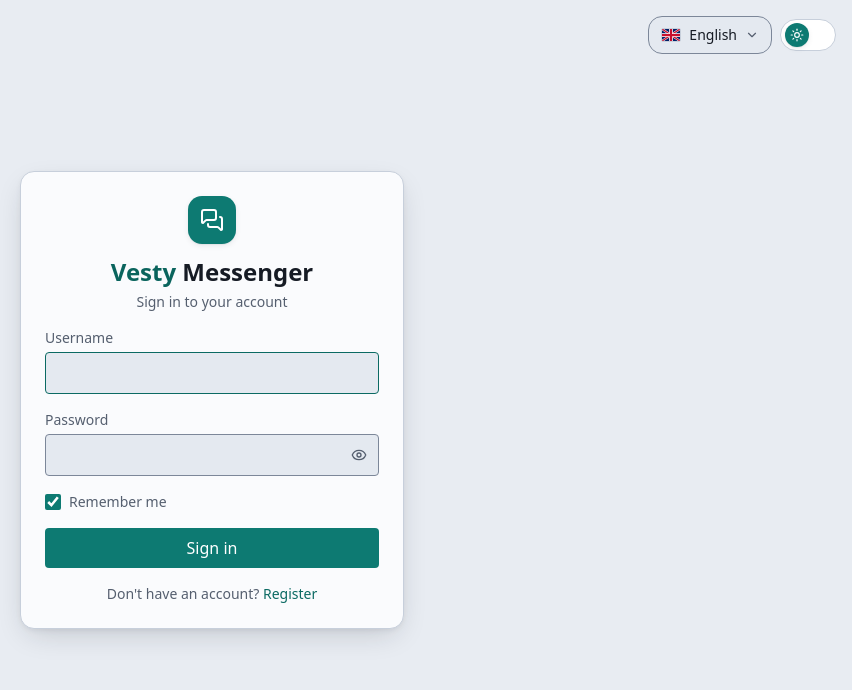
Test: LoginPage › reports any other failure
This screenshot has width=852, height=690.
Type "petya" into the field labelled "Username" at (212, 373), box [45,352,379,394]
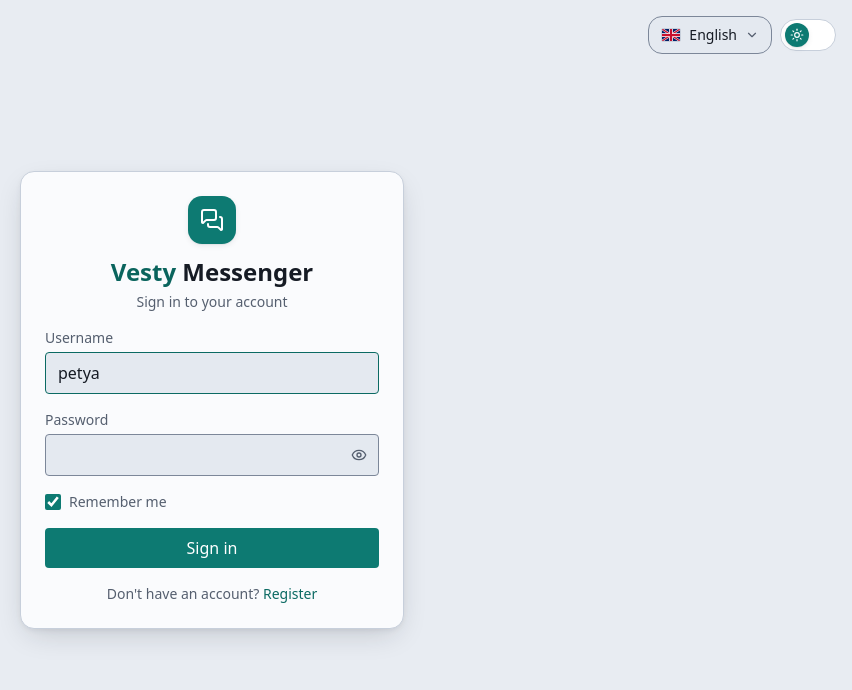
Type "Secret1" into the password field labelled "Password" at (212, 455), box [45,434,379,476]
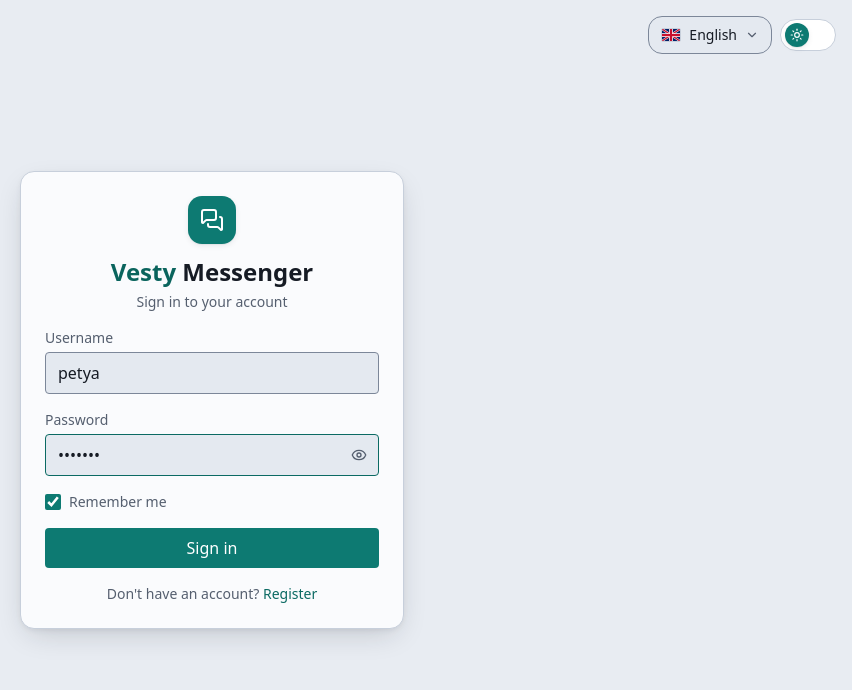
Click the button "Sign in" at (212, 548), box [45,528,379,568]
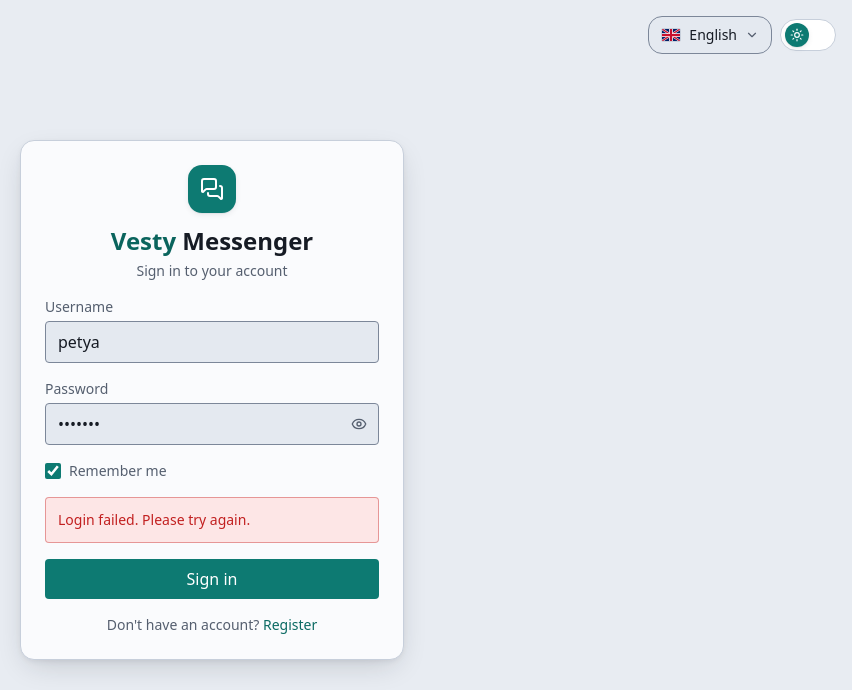
Now the text "Login failed. Please try again." is shown, box [45,497,379,543]
